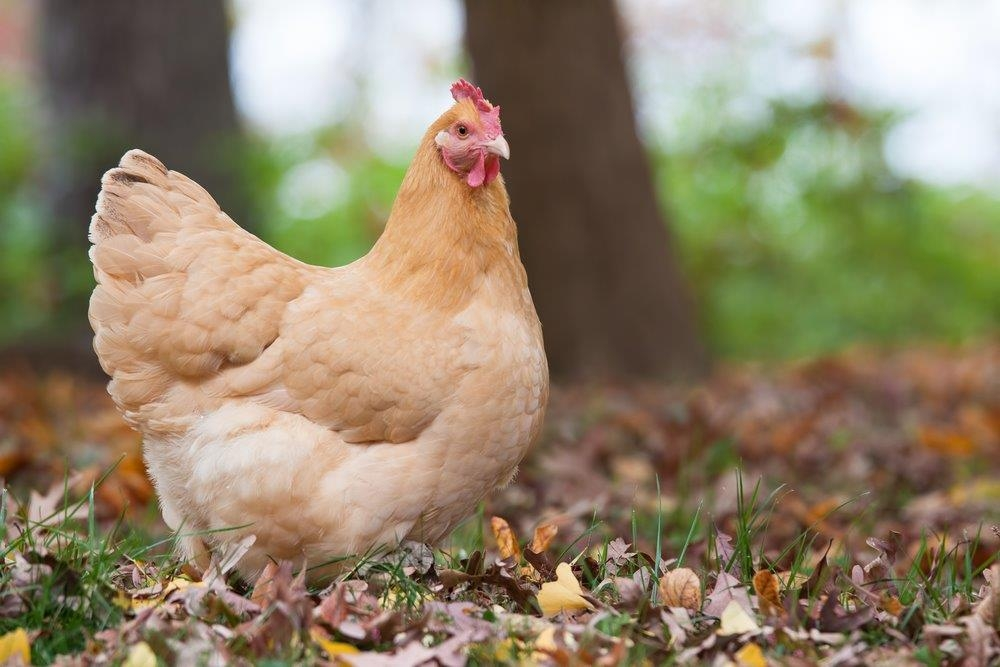buff: (73, 75, 549, 592)
